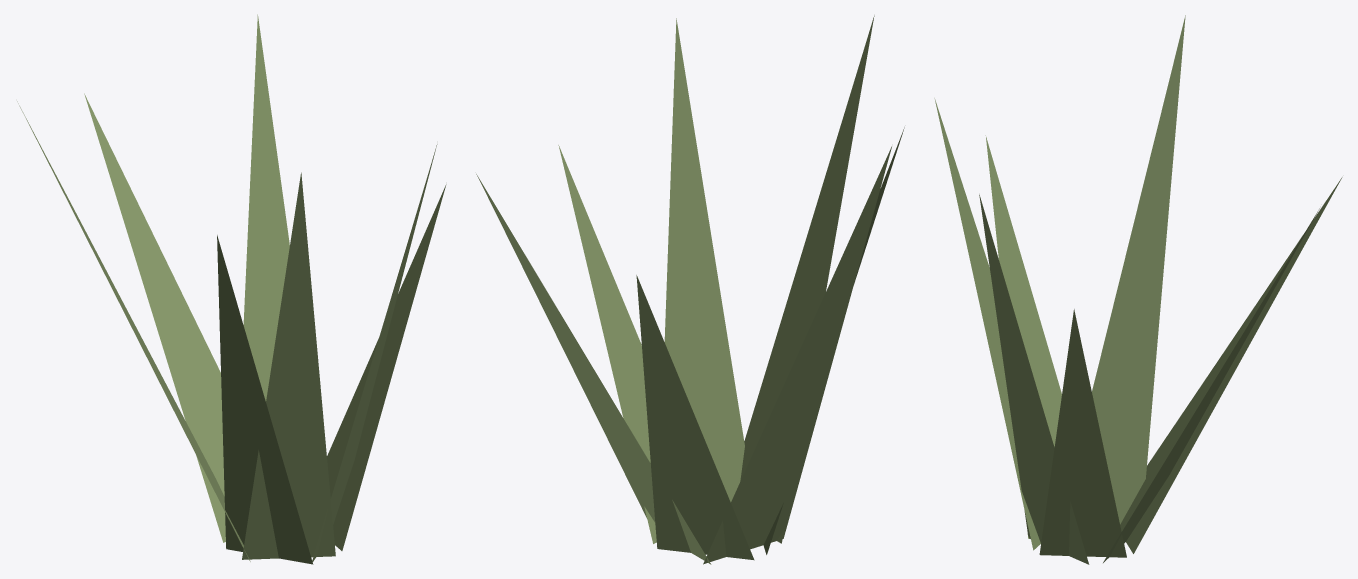
Rendered from grass_tuft_b.glb.
3 views of the same model, side by side, from view 1: azimuth 30°, elevation 25°; view 2: azimuth 150°, elevation 25°; view 3: azimuth 270°, elevation 25° (orthographic). The views are drawn at different scales.
Parts seen in each view (by area): view 1: grass_tuft_b; view 2: grass_tuft_b; view 3: grass_tuft_b.
Part boxes in pixels (<box>): grass_tuft_b: <box>17,14,446,564</box>; grass_tuft_b: <box>476,15,904,564</box>; grass_tuft_b: <box>934,15,1342,564</box>.
Size of the model in its own units: 0.3193 by 0.3762 by 0.3265.
